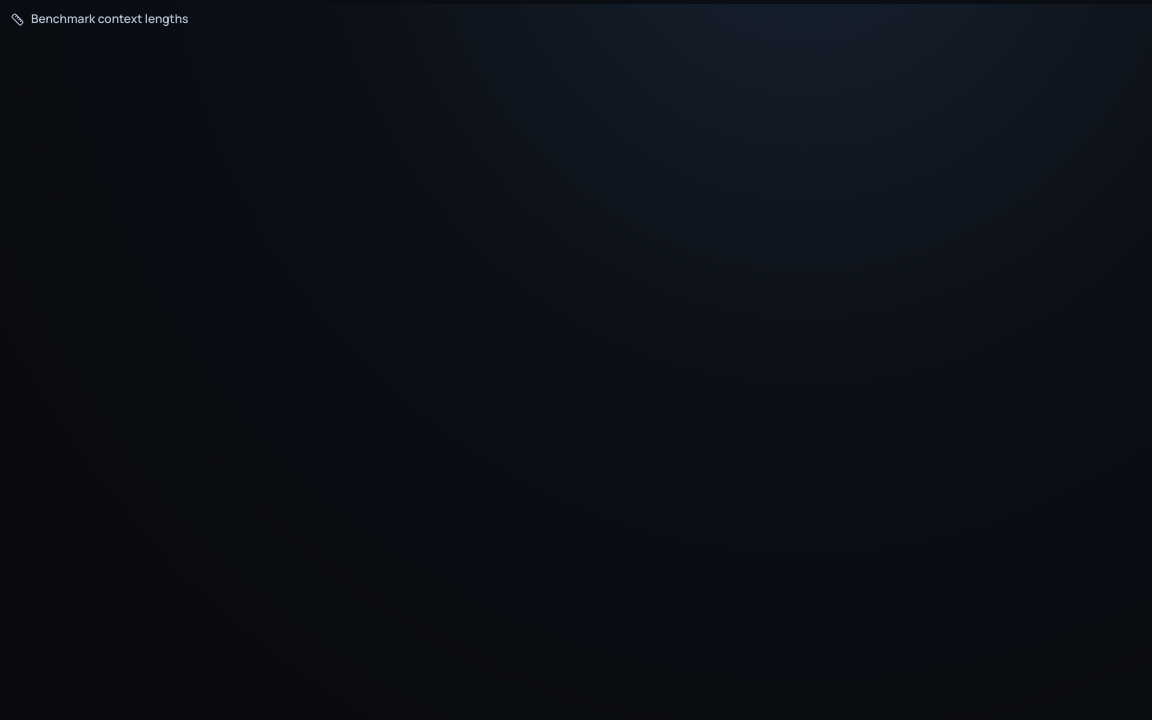
Test case: ContextMatrix › asks first, runs the quick range by default and shows a depth that was not measured
Click the button "Benchmark context lengths": (100, 19) [0, 4, 200, 34]
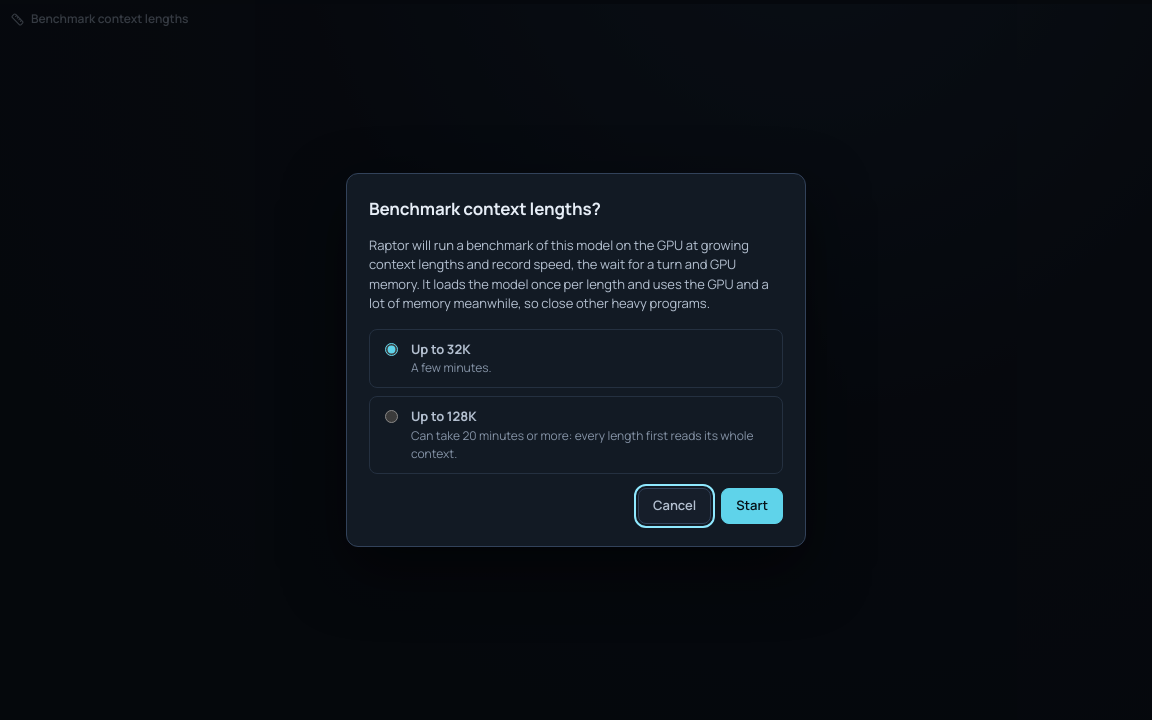
Click the button "Start": (752, 506) [721, 488, 783, 524]
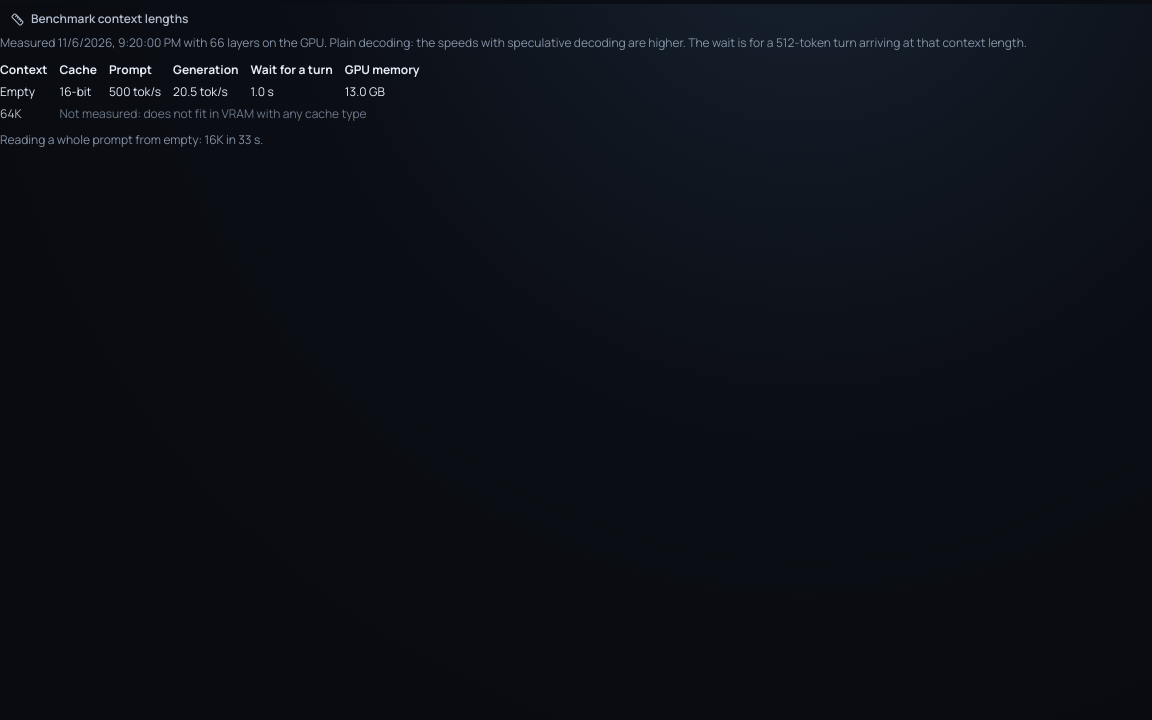
Result: the text "Not measured: does not fit in VRAM with any cache type" is shown at [60, 103, 432, 125]
